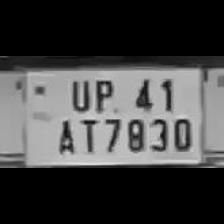0: (170, 113, 194, 151)
1: (154, 74, 178, 112)
3: (146, 114, 170, 152)
4: (127, 74, 155, 110)
7: (100, 114, 122, 154)
8: (122, 114, 146, 152)
A: (52, 115, 76, 155)
P: (90, 75, 116, 111)
T: (76, 116, 100, 154)
U: (66, 75, 92, 111)
